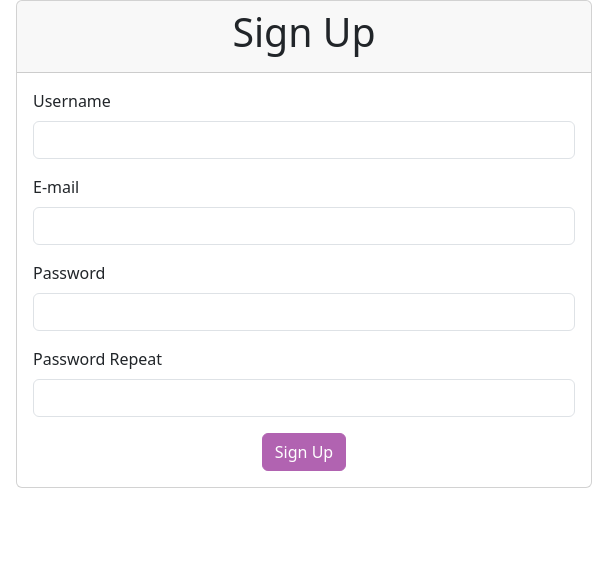
it: Sign Up › when user sets same value for password inputs › when user submits the form › when network failure occurs › displays generic message
In the field labelled "Username": (304,140) [33,121,575,159], type "user1"
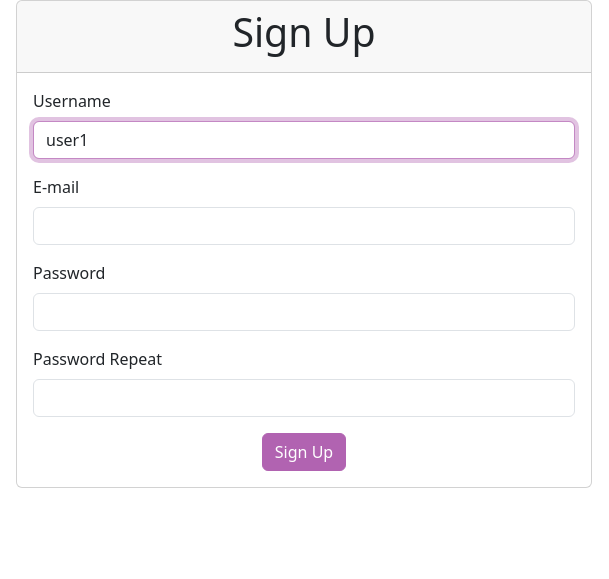
In the field labelled "E-mail": (304,226) [33,207,575,245], type "user1@mail.com"
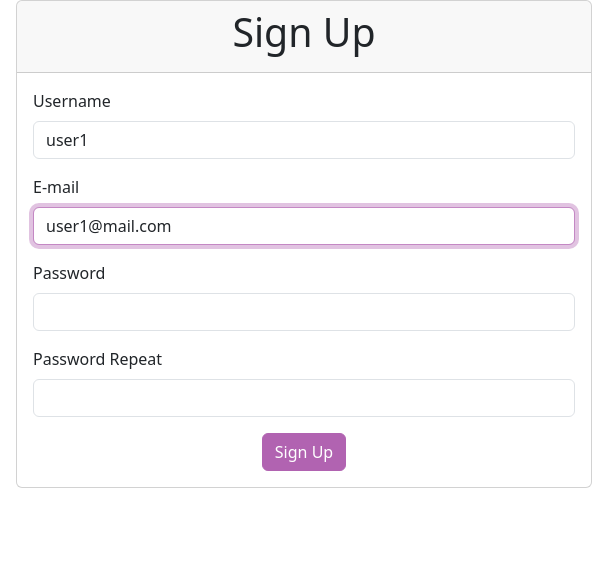
In the password field labelled "Password": (304,312) [33,293,575,331], type "P4ssword"
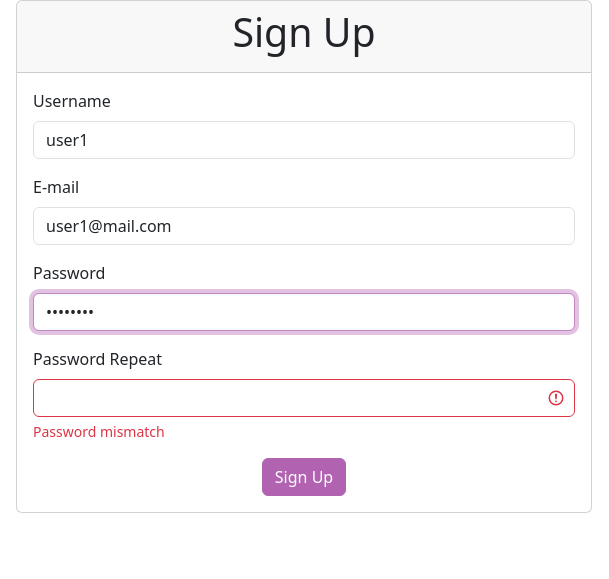
In the password field labelled "Password Repeat": (304,398) [33,379,575,417], type "P4ssword"
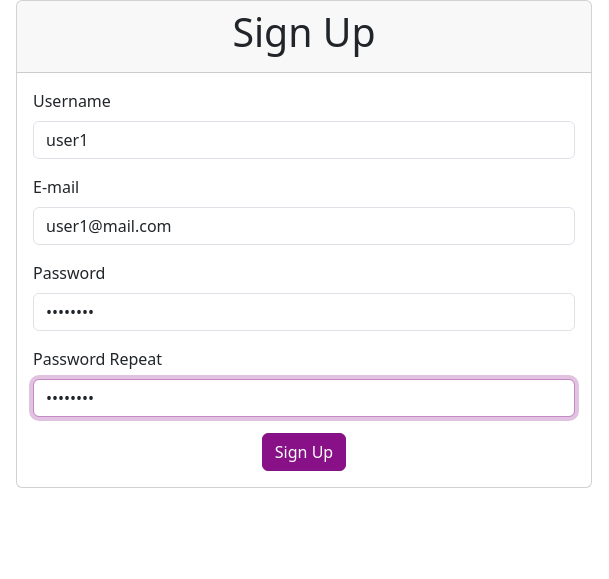
Click the button "Sign Up": (304,452) [262,433,346,471]
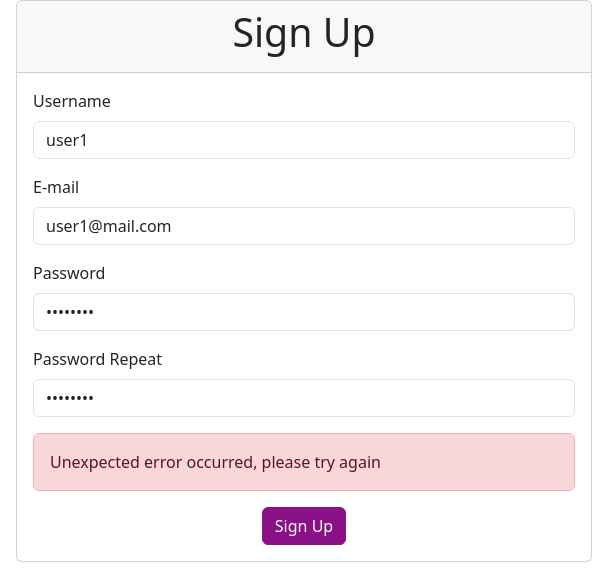
Expected: the text "Unexpected error occurred, please try again" is shown, [33,433,575,491]
